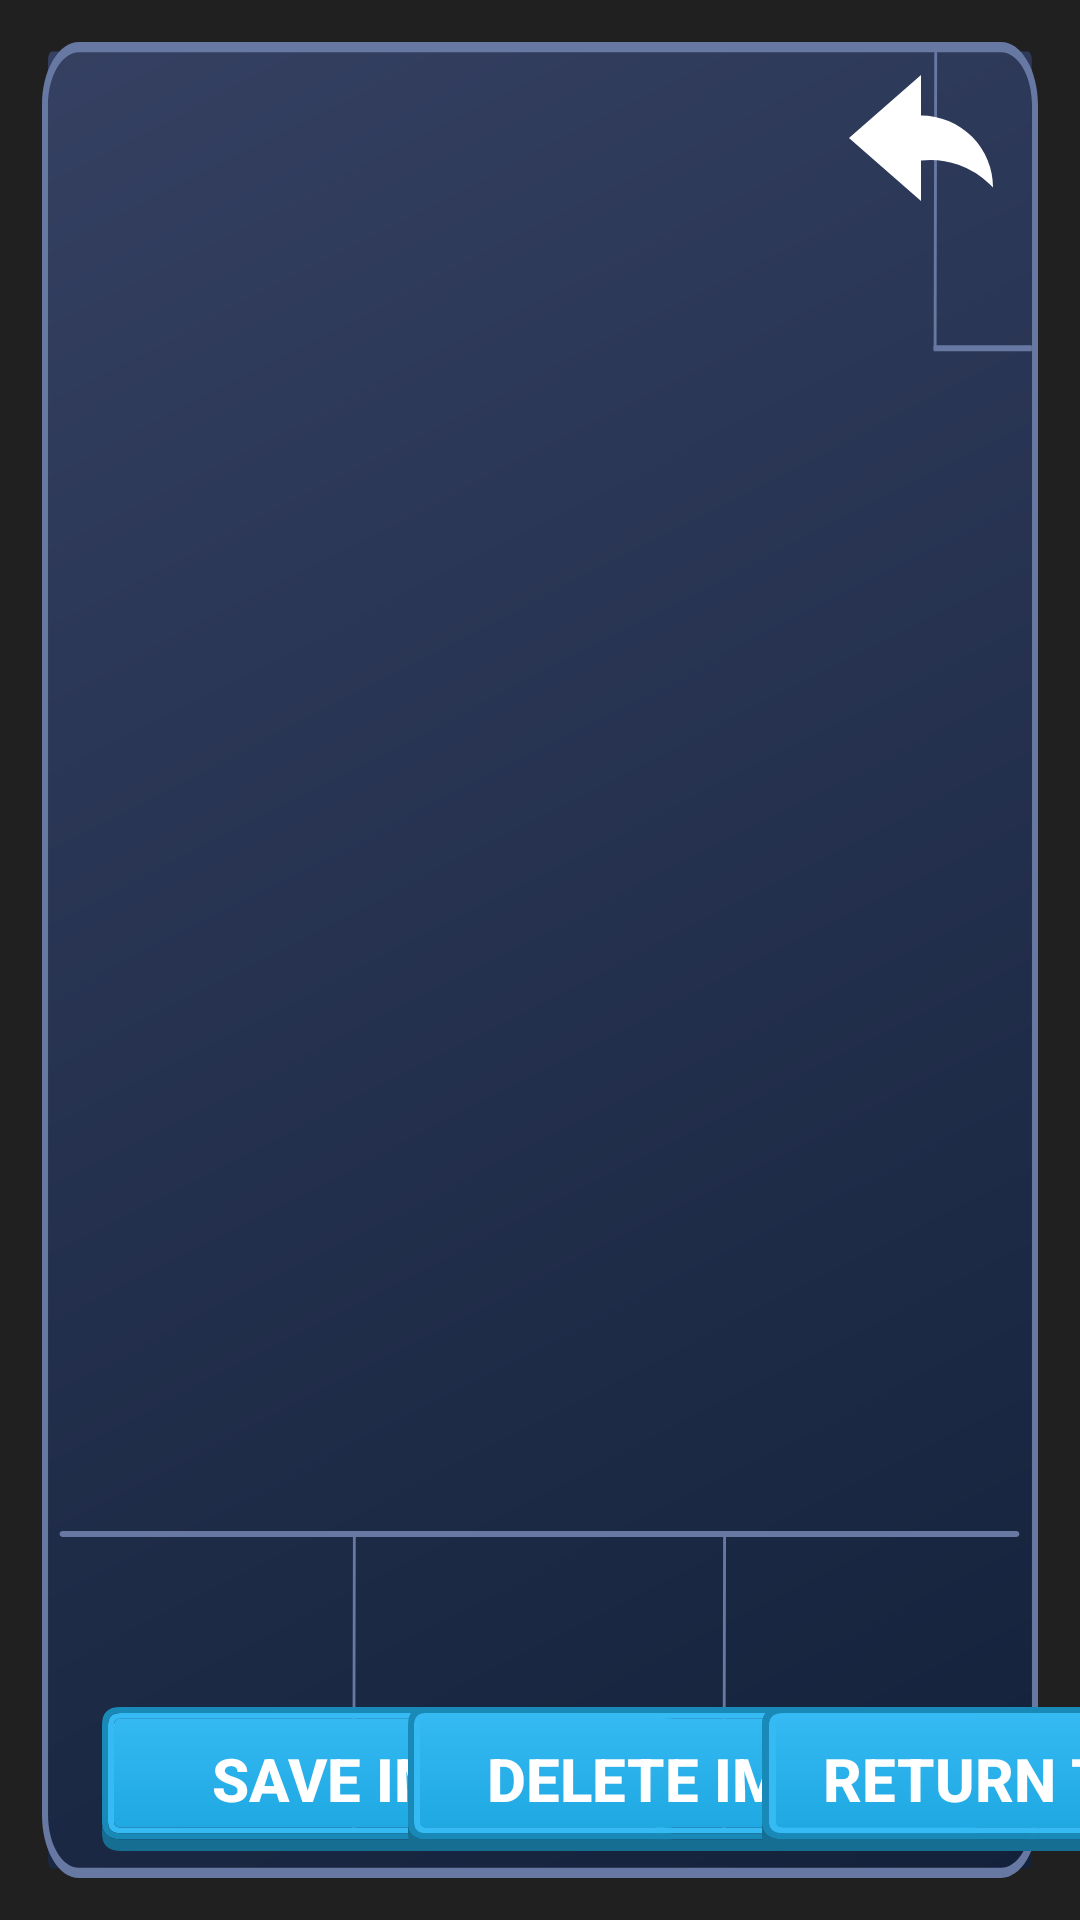

Point at icon controls on the screen. Image size 1080*1920, points as (x=x, y=y).
undo: (x=921, y=138)
